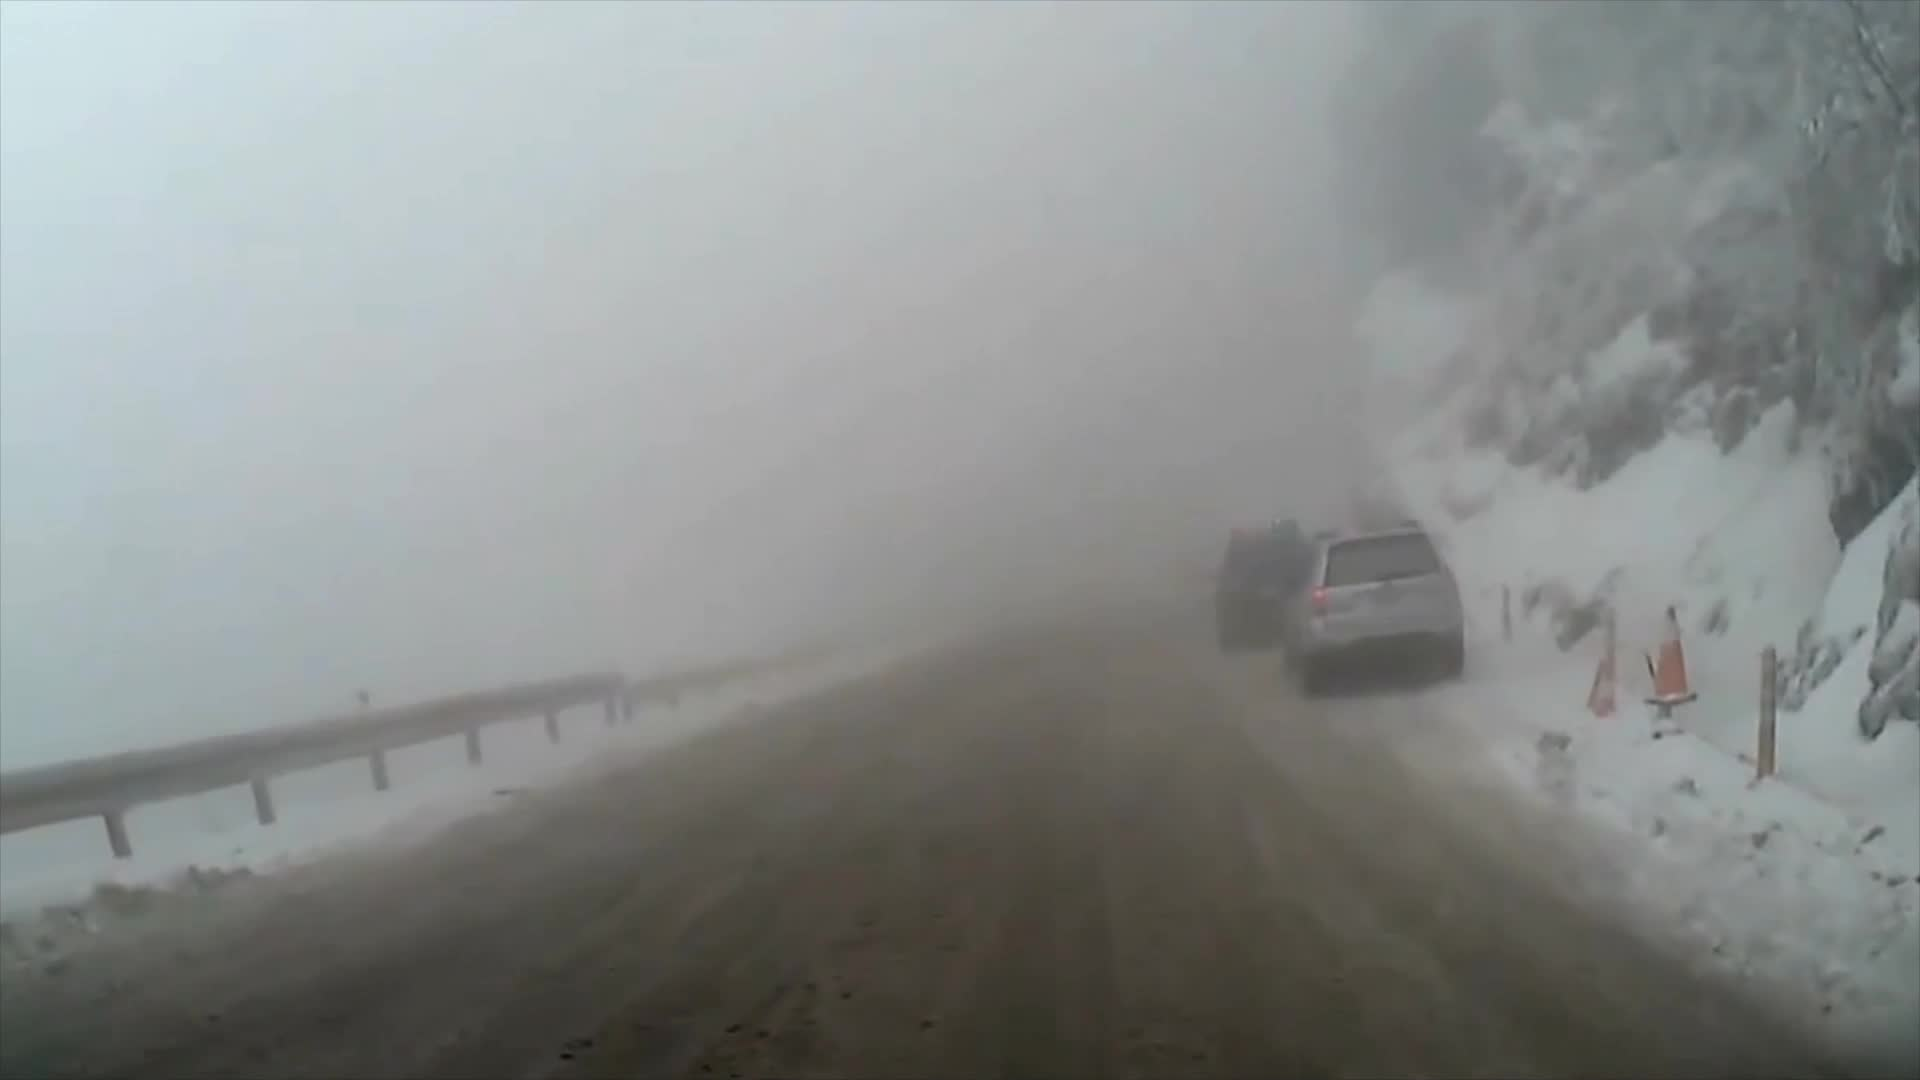vehicle: (1278, 516, 1464, 699), (1209, 527, 1337, 669)
